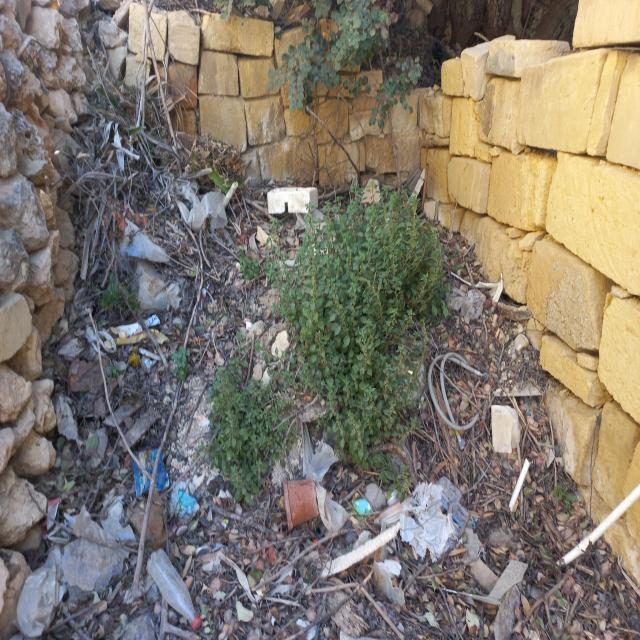Bottle: (146, 548, 202, 630), (494, 584, 521, 640)
Broken glass: (490, 559, 528, 599)
Other plastic: (14, 500, 139, 637), (378, 476, 484, 562), (559, 484, 640, 568), (300, 420, 350, 543), (426, 351, 487, 451), (88, 315, 170, 357), (174, 184, 229, 242), (114, 216, 171, 263), (281, 478, 319, 532), (373, 544, 405, 604), (167, 479, 201, 523), (507, 459, 532, 513), (449, 285, 487, 320), (295, 210, 326, 232), (225, 180, 240, 202)
Plastic bag - wrapper: (132, 445, 170, 498)
Styrofoam piece: (451, 271, 503, 313), (267, 187, 319, 214), (246, 321, 254, 331)
